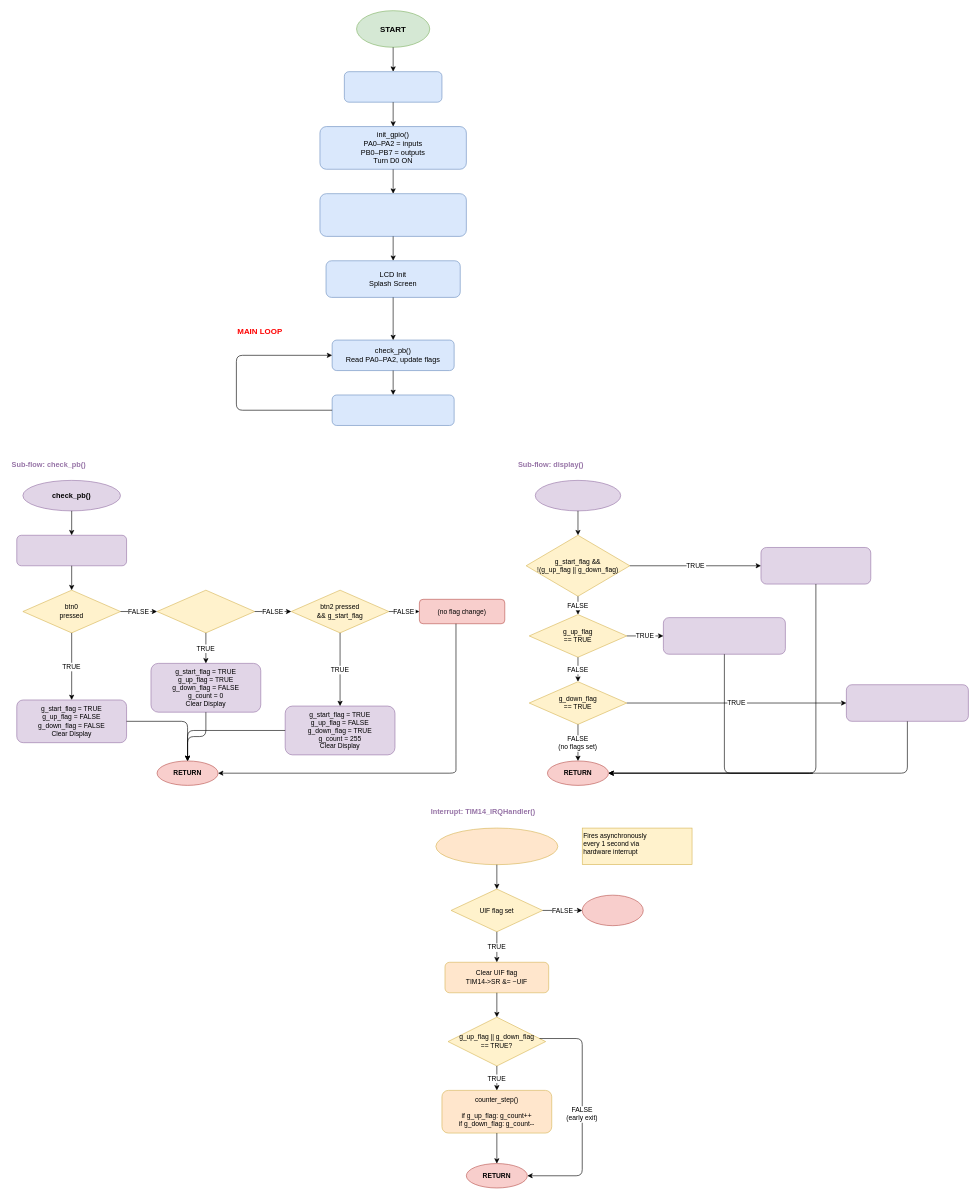
The diagram is 979 pixels wide and 1199 high, and some of its shapes have lost their labels. Here are the shapes that lost their labels. From the top down, the centre of each, then its label:
the point at 393,86: init_clock()
the point at 392,214: init_timer() Enable Interrupt Start timer (1s period)
the point at 393,409: display() Update LCD and LEDs based on flags
the point at 578,495: display()
the point at 71,550: Read PA0, PA1, PA2 btn0/1/2 = (IDR == 0)
the point at 815,565: Display: "Binary Counter SW1:Up SW2:Down" Turn D0 + D7 ON
the point at 205,611: btn1 pressed && g_start_flag
the point at 724,635: Display: "Counter [U]: count = {convert2BCDASCII(g_count)}" write_leds(g_count)
the point at 907,702: Display: "Counter [D]: count = {convert2BCDASCII(g_count)}" write_leds(g_count)
the point at 496,846: TIM14_IRQHandler() (fires every 1 second)
the point at 612,910: RETURN (ignore)
